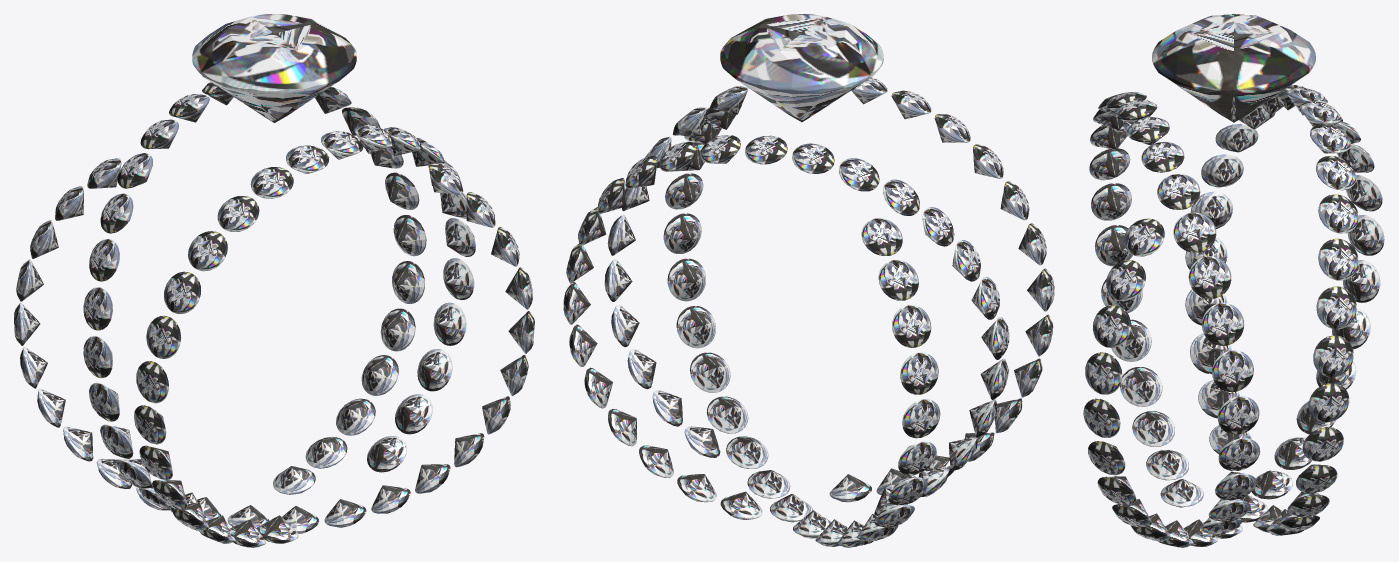
The picture shows the model from 3 angles, left to right: view 1: azimuth 30°, elevation 25°; view 2: azimuth 150°, elevation 25°; view 3: azimuth 270°, elevation 25°; orthographic projection.
Parts seen in each view (by area): view 1: Object_1, Object_68, Object_69, Object_70, Object_24, Object_55, Object_67, Object_25, Object_54, Object_56, Object_23, Object_26 (+50 smaller); view 2: Object_1, Object_50, Object_35, Object_34, Object_51, Object_36, Object_49, Object_52, Object_33, Object_37, Object_48, Object_38 (+49 smaller); view 3: Object_1, Object_60, Object_59, Object_8, Object_58, Object_61, Object_21, Object_75, Object_7, Object_31, Object_30, Object_22 (+58 smaller).
Boxes of the visible parts, x1,y1,x2,y2 form: Object_1: [192, 14, 356, 122]; Object_68: [188, 231, 227, 271]; Object_69: [164, 271, 200, 313]; Object_70: [146, 315, 180, 358]; Object_24: [380, 308, 415, 351]; Object_55: [417, 349, 452, 391]; Object_67: [217, 196, 259, 231]; Object_25: [361, 355, 398, 395]; Object_54: [395, 394, 432, 434]; Object_56: [433, 302, 466, 345]; Object_23: [392, 261, 424, 303]; Object_26: [336, 398, 375, 435]; Object_1: [720, 14, 883, 122]; Object_50: [892, 305, 931, 347]; Object_35: [676, 306, 715, 348]; Object_34: [667, 258, 705, 301]; Object_51: [878, 260, 918, 300]; Object_36: [690, 352, 730, 392]; Object_49: [900, 352, 938, 394]; Object_52: [861, 218, 902, 255]; Object_33: [663, 213, 701, 253]; Object_37: [707, 396, 748, 433]; Object_48: [902, 399, 940, 438]; Object_38: [726, 436, 768, 468]; Object_1: [1152, 14, 1315, 122]; Object_60: [1188, 256, 1231, 298]; Object_59: [1202, 303, 1244, 345]; Object_8: [1316, 286, 1356, 329]; Object_58: [1212, 350, 1253, 391]; Object_61: [1173, 212, 1216, 252]; Object_21: [1313, 335, 1353, 377]; Object_75: [1120, 367, 1162, 406]; Object_7: [1318, 238, 1358, 280]; Object_31: [1093, 305, 1131, 347]; Object_30: [1106, 260, 1145, 300]; Object_22: [1308, 383, 1349, 422].
Bounding box in the file's own units: 21.12 × 14.03 × 25.35.
1 material, 1 textured.
